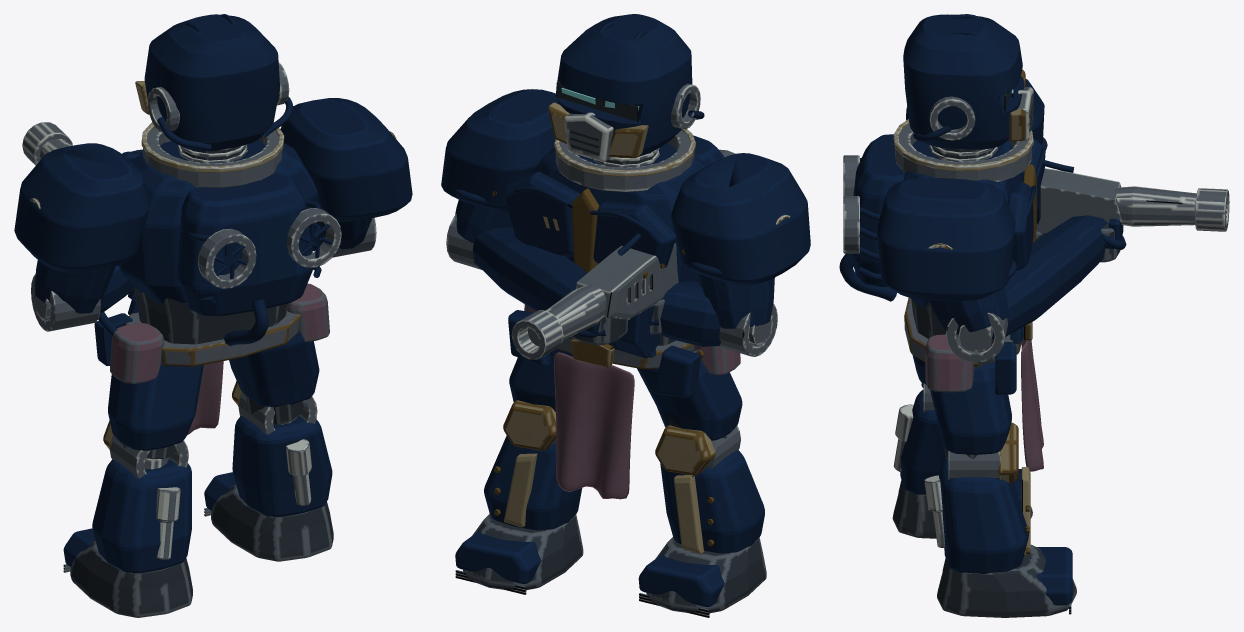
The model's file is legion_infantry.glb.
The picture shows the model from 3 angles, left to right: view 1: azimuth 30°, elevation 25°; view 2: azimuth 150°, elevation 25°; view 3: azimuth 270°, elevation 25°; orthographic projection.
Parts seen in each view (by area): view 1: GT_legion_infantry; view 2: GT_legion_infantry; view 3: GT_legion_infantry.
Boxes of the visible parts, box(x1,y1,x2,y2) form: GT_legion_infantry: box(14, 14, 412, 617); GT_legion_infantry: box(441, 14, 810, 617); GT_legion_infantry: box(839, 14, 1229, 617).
Size of the model in its own units: 1.15 by 1.69 by 1.11.
1 material, 1 textured.
